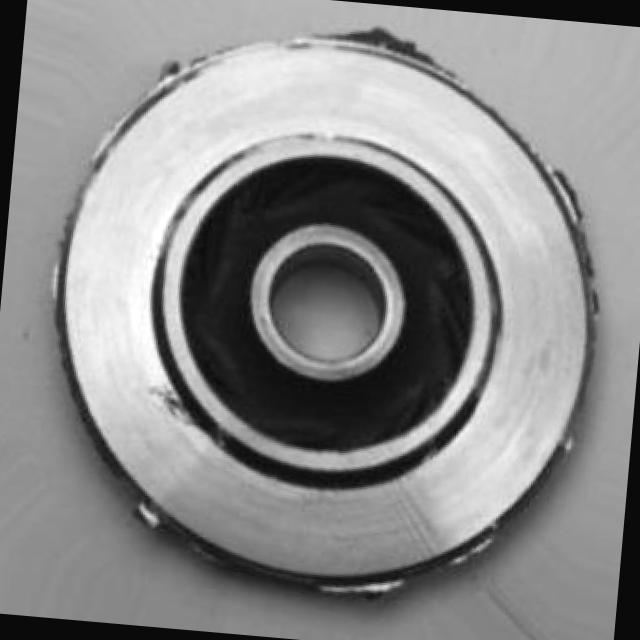Defect: (348, 17, 422, 72)
